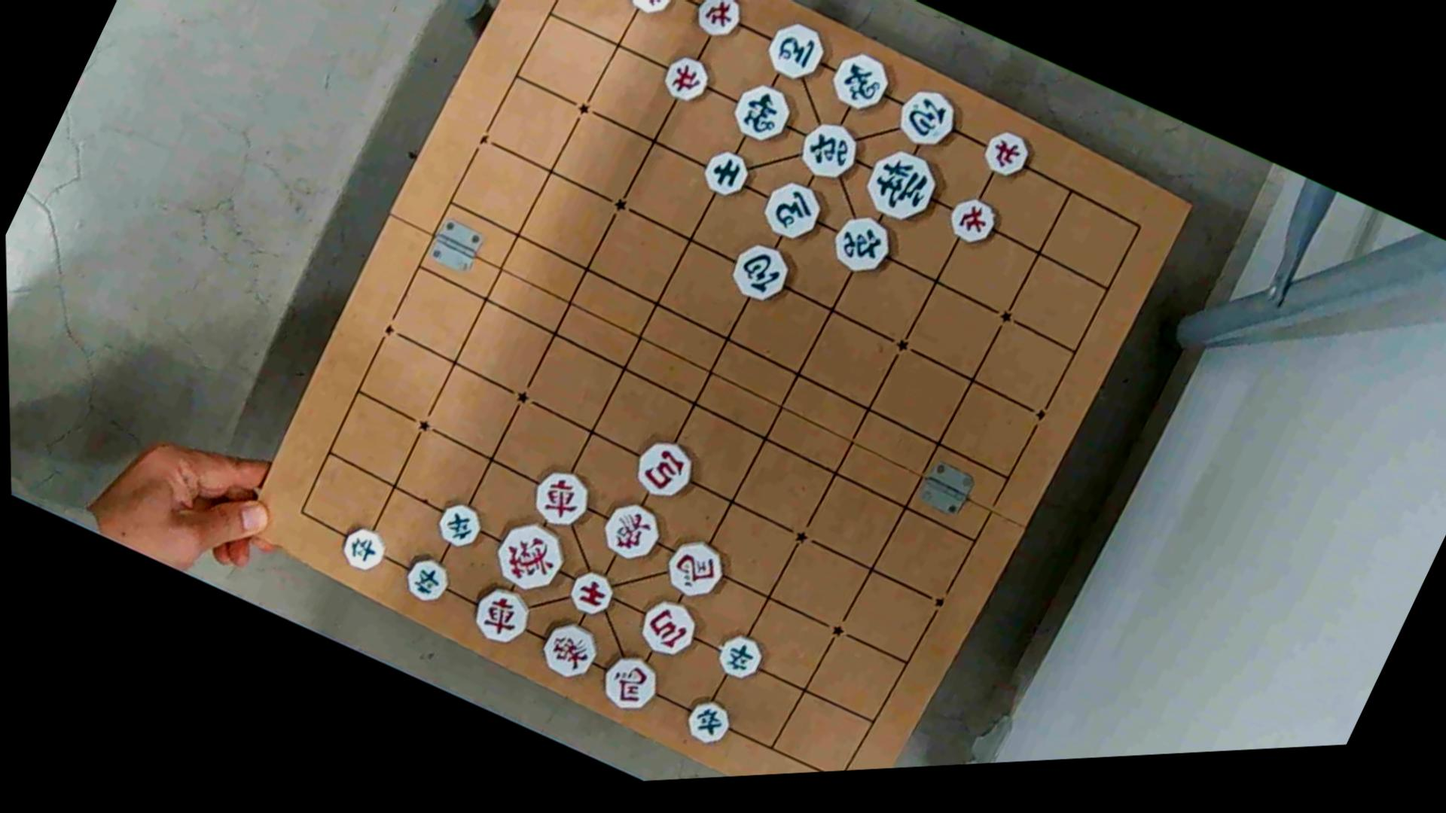cha_green: (825, 206, 901, 283), (791, 114, 865, 187)
cha_red: (524, 461, 596, 532), (469, 580, 540, 650)
jol_green: (334, 516, 395, 577), (709, 628, 767, 685), (682, 693, 740, 749), (432, 495, 488, 552), (399, 552, 456, 607)
jol_red: (941, 190, 1002, 250), (975, 126, 1033, 183), (654, 49, 710, 105), (688, 0, 746, 44), (624, 0, 682, 20)
ma_green: (759, 14, 832, 87), (756, 172, 829, 245)
ma_red: (662, 531, 737, 606), (593, 644, 667, 716)
po_green: (721, 232, 801, 312), (890, 79, 966, 154)
po_red: (629, 432, 703, 506), (637, 594, 709, 665)
sa_green: (699, 144, 758, 202)
sa_red: (564, 565, 621, 622)
sang_green: (825, 44, 898, 119), (727, 75, 800, 149)
sang_red: (593, 494, 667, 567), (532, 612, 604, 684)
wang_green: (853, 138, 945, 230)
wang_red: (487, 513, 573, 599)
